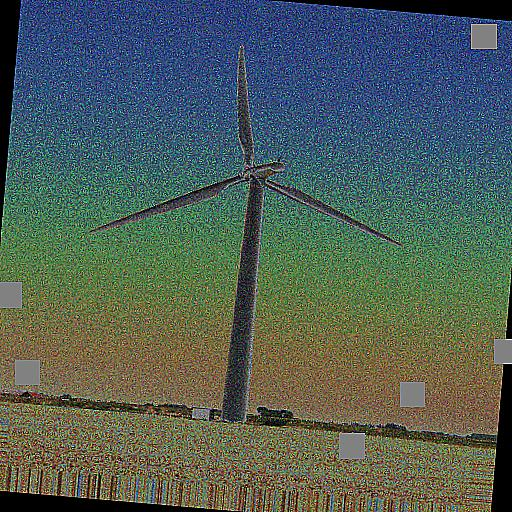wind turbine: (87, 44, 404, 417)
